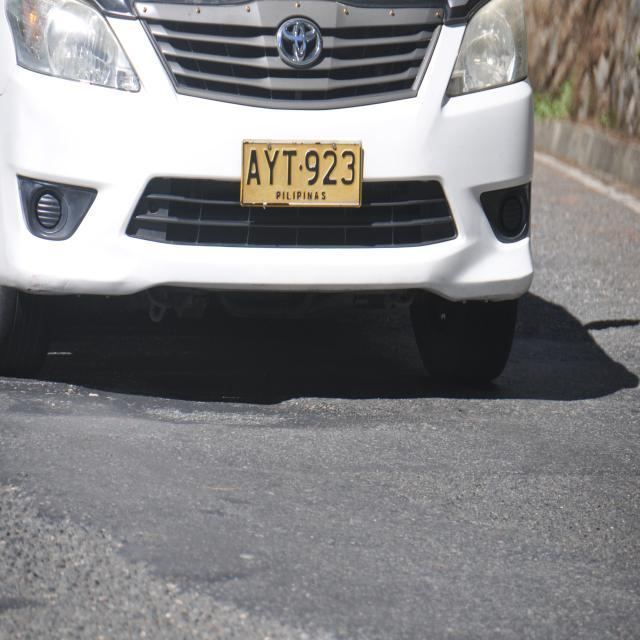LicensePlate: (234, 134, 367, 211)
